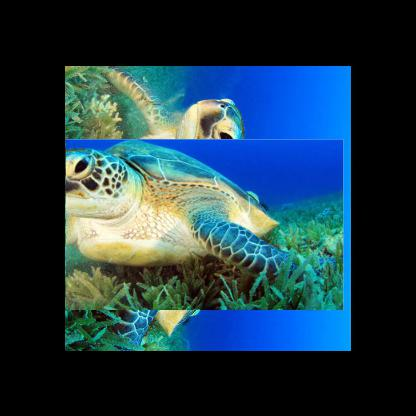turtle: (66, 92, 298, 350)
